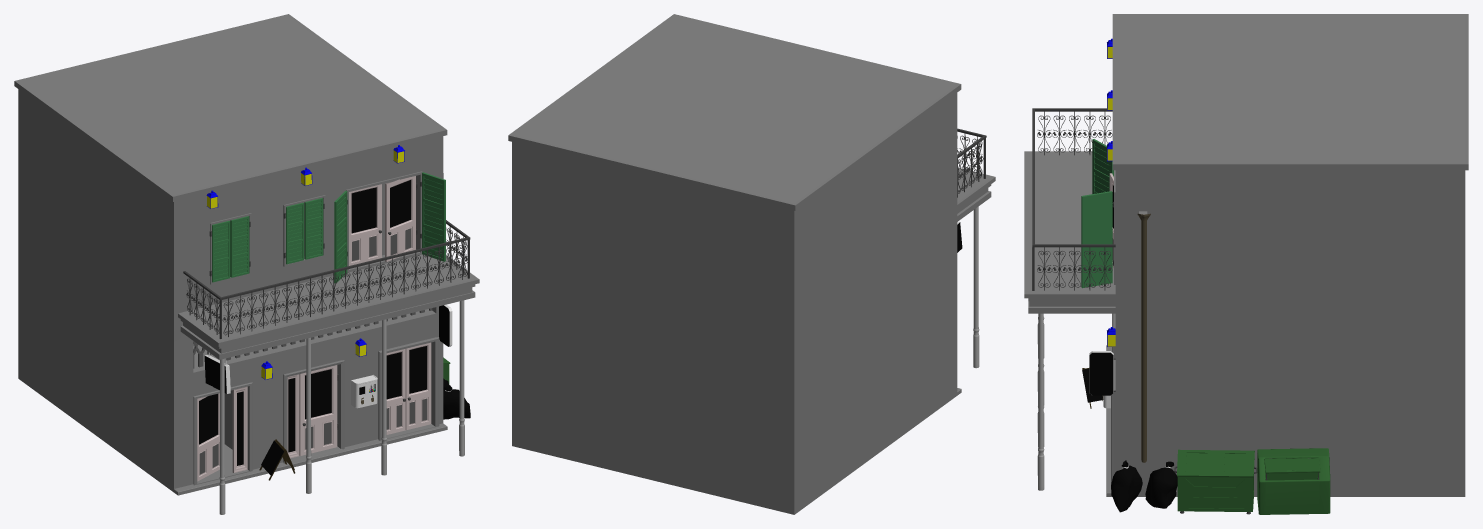
File: house1_merged2.fbx
The picture shows the model from 3 angles, left to right: view 1: azimuth 30°, elevation 25°; view 2: azimuth 150°, elevation 25°; view 3: azimuth 270°, elevation 25°; orthographic projection. The views are drawn at different scales.
Parts seen in each view (by area): view 1: house1; view 2: house1; view 3: house1.
Part boxes in pixels (x1,y1,x2,y2): house1: [14, 14, 479, 514]; house1: [508, 14, 995, 514]; house1: [1024, 14, 1468, 514].
Size of the model in its own units: 17.21 by 15.78 by 18.98.
